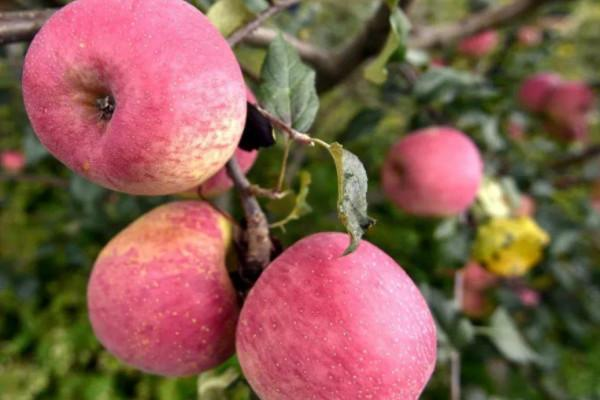apple: (23, 1, 246, 198), (233, 234, 437, 398), (84, 200, 241, 376), (383, 122, 486, 225)
